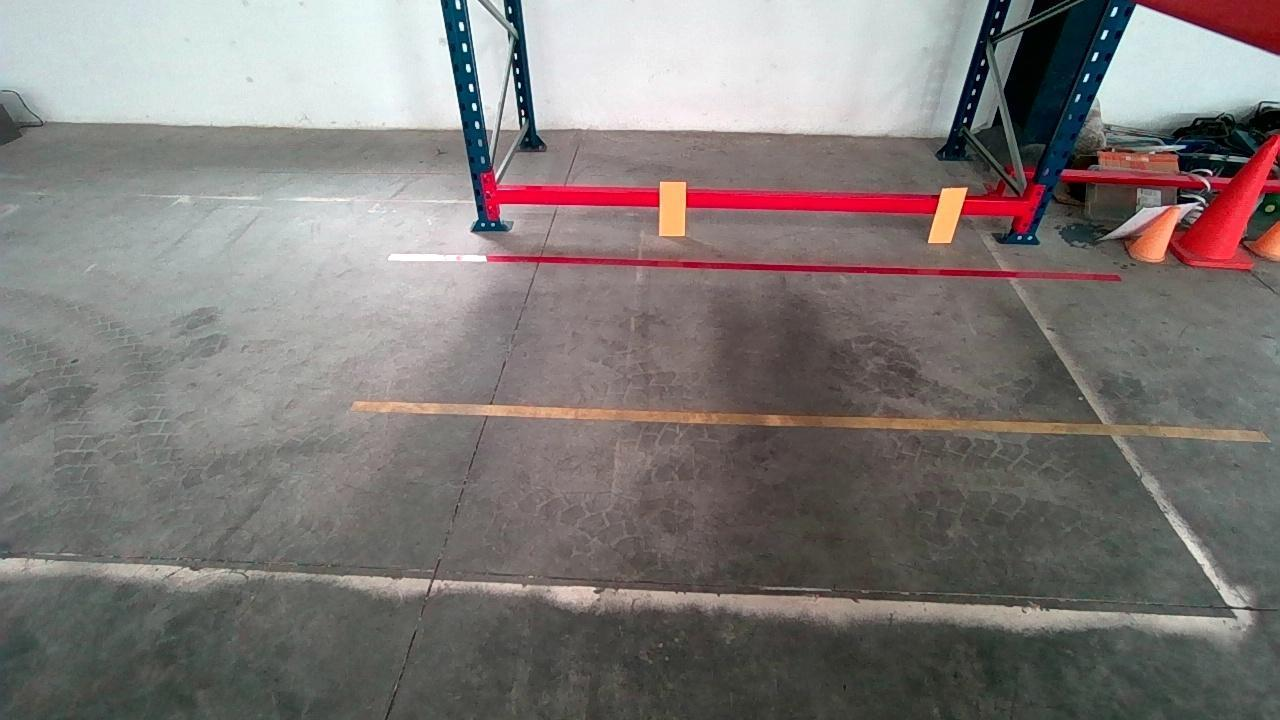h_rack: (489, 187, 1036, 217)
orange_strip: (928, 186, 969, 241), (659, 180, 688, 235)
red_line: (385, 252, 1119, 281)
yellow_line: (343, 399, 1266, 443)
